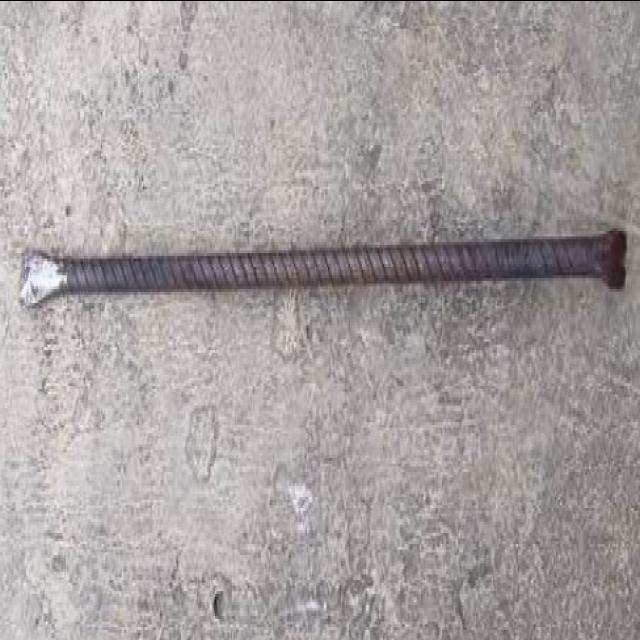Linggis: (19, 223, 631, 313)
